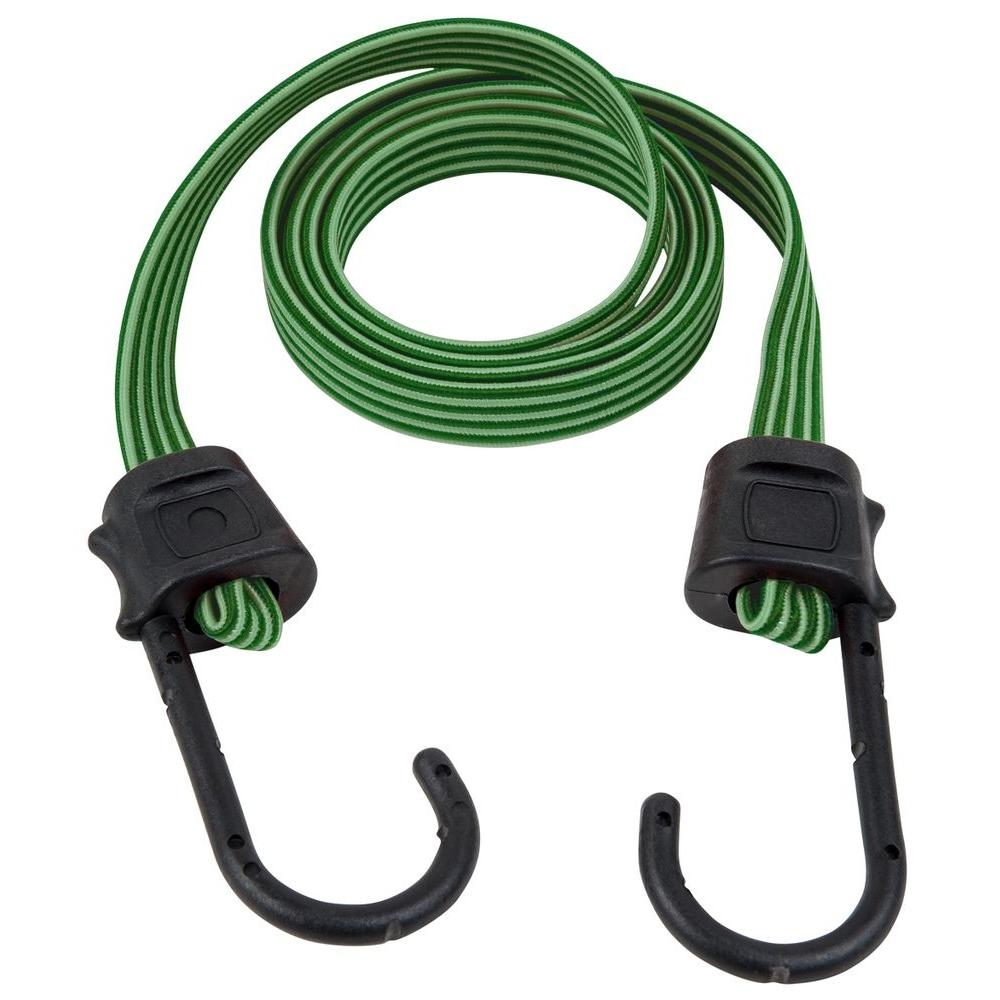Nonrec_Tangler: (70, 1, 905, 986)
